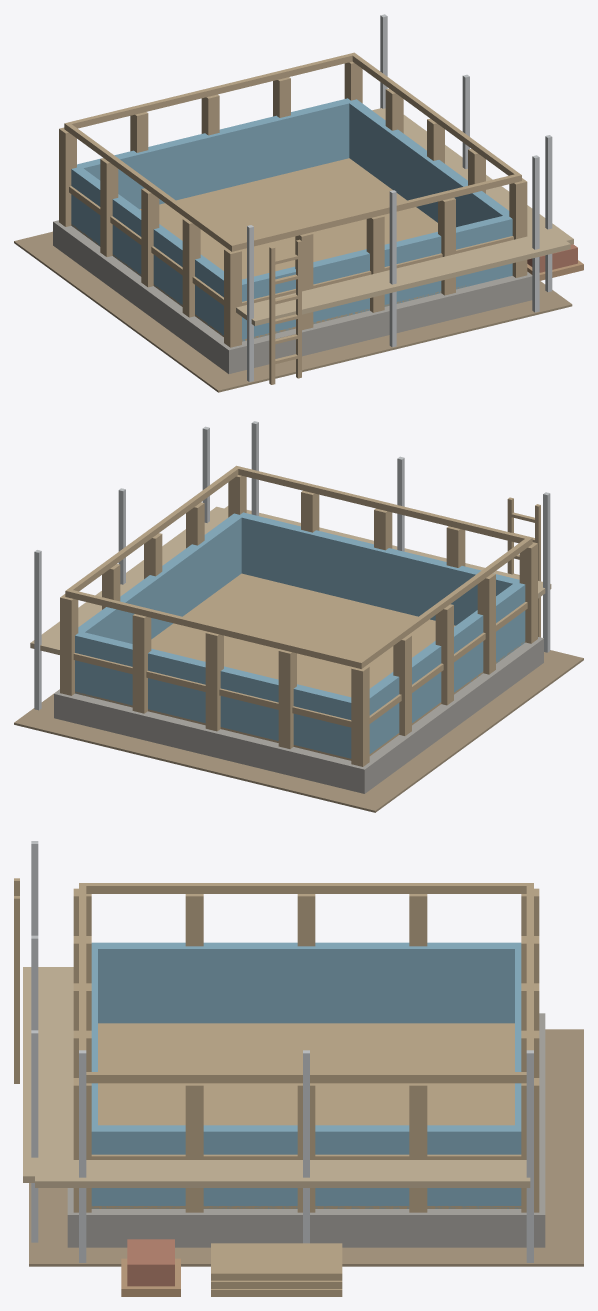
The model's file is duck_pond_site_6.glb.
3 renders of one model, top to bottom at view 1: azimuth 30°, elevation 25°; view 2: azimuth 150°, elevation 25°; view 3: azimuth 270°, elevation 25°, orthographic. The views are drawn at different scales.
Visible parts, largest first — view 1: body; view 2: body; view 3: body.
Part boxes in pixels (<box>): body: <box>14,14,583,392</box>; body: <box>14,421,583,812</box>; body: <box>14,841,583,1296</box>.
Size of the model in its own units: 2.1 by 0.785 by 1.91.
